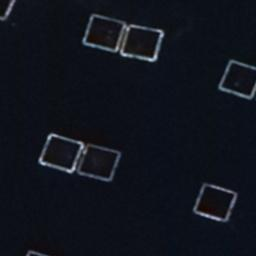square_solid: (36, 127, 90, 178), (73, 137, 124, 187), (190, 177, 240, 225), (114, 19, 166, 65), (81, 10, 131, 56), (215, 54, 256, 103)
